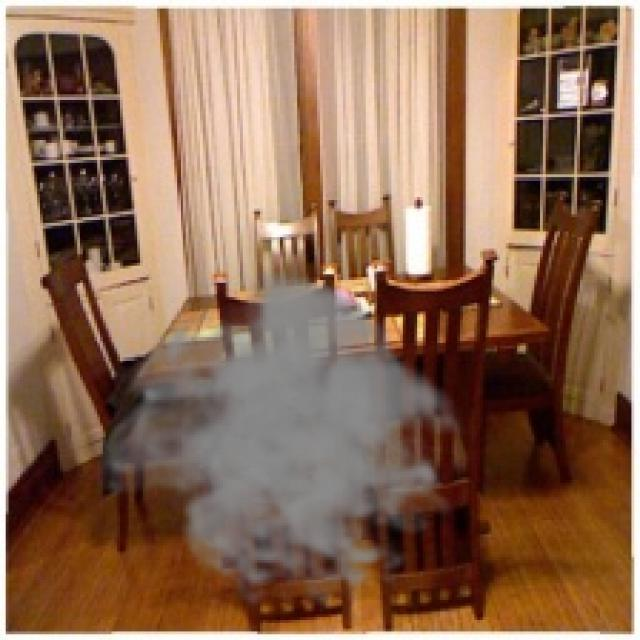Smoke: (92, 266, 477, 608)
